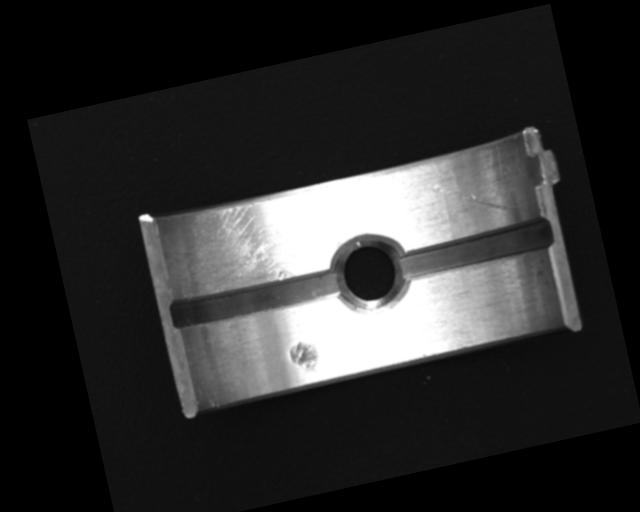bruise: (286, 338, 321, 378)
gap: (168, 262, 348, 333), (398, 217, 555, 282)
hole: (327, 225, 413, 318)
nick: (428, 167, 513, 228)
scratch: (163, 181, 332, 302)
